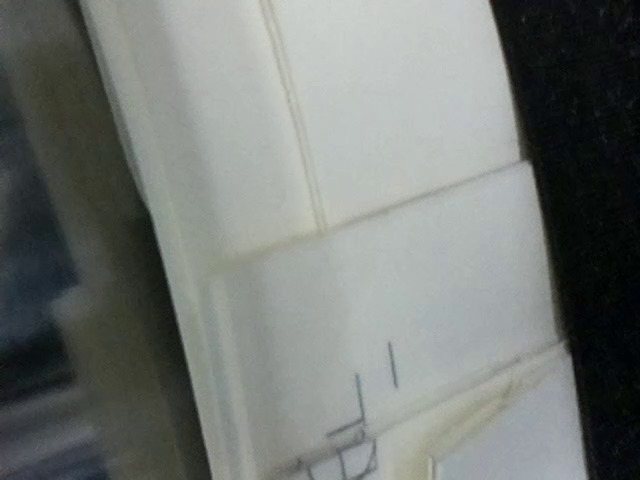misaligned: (275, 373, 382, 479)
